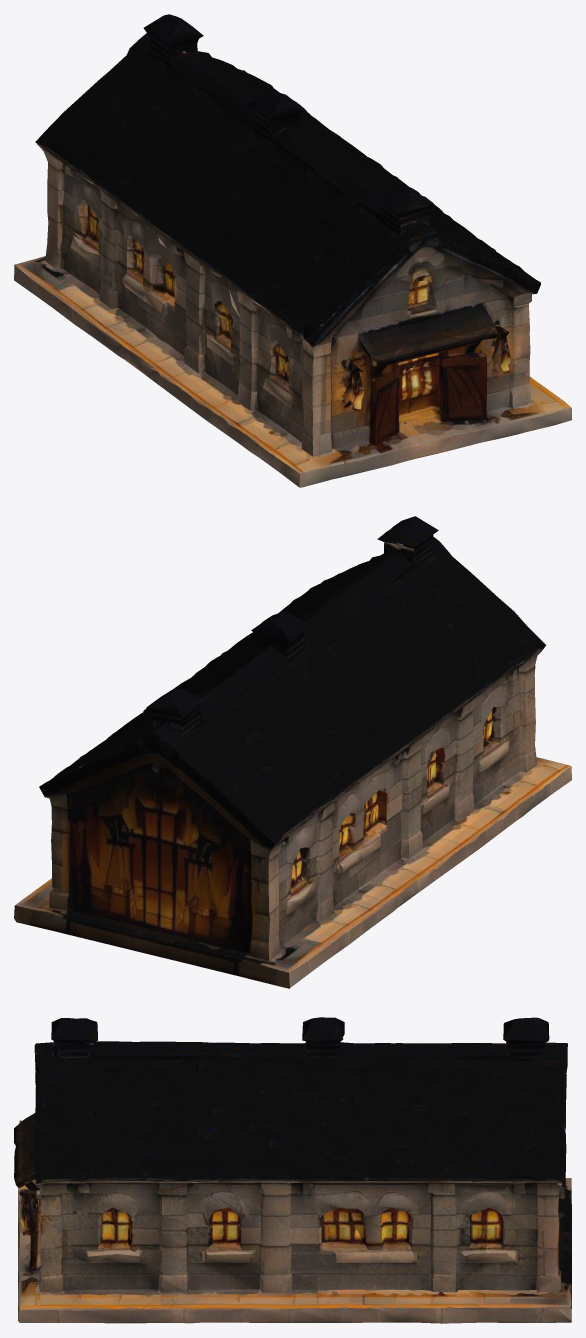
File: kitaichi-glass.glb
3 views of the same model, one above another, from view 1: azimuth 30°, elevation 25°; view 2: azimuth 150°, elevation 25°; view 3: azimuth 270°, elevation 25° (orthographic). The views are drawn at different scales.
Visible parts, largest first — view 1: logan-textured.obj; view 2: logan-textured.obj; view 3: logan-textured.obj.
Part boxes in pixels (<box>): logan-textured.obj: <box>14,14,571,487</box>; logan-textured.obj: <box>14,516,571,988</box>; logan-textured.obj: <box>14,1017,571,1323</box>.
Bounding box in the file's own units: 0.5567 × 0.4759 × 1.
Materials: 1 (1 with a texture image).
